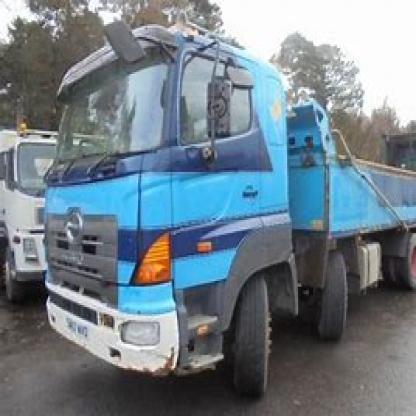dump_truck: (34, 17, 415, 394)
